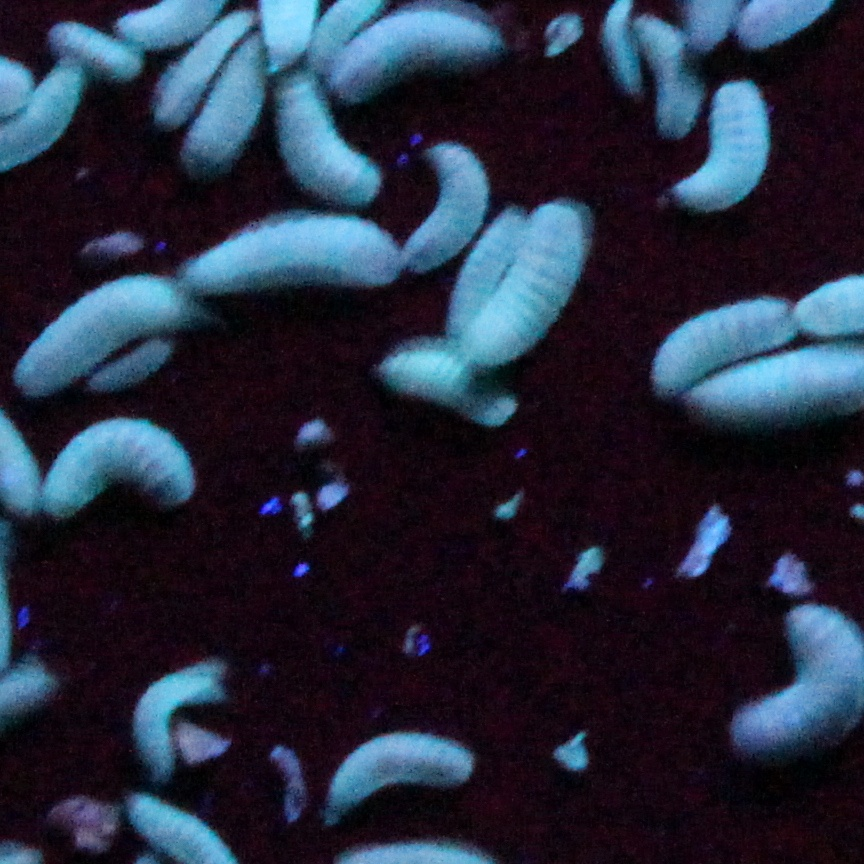larve: (182, 206, 411, 291), (736, 609, 864, 751), (19, 270, 176, 385), (476, 202, 589, 357), (269, 59, 372, 213), (44, 421, 190, 523), (321, 727, 473, 822), (648, 302, 801, 385), (671, 71, 763, 208), (155, 10, 254, 123), (325, 23, 482, 92), (396, 334, 510, 425), (453, 200, 520, 341), (199, 33, 262, 182), (416, 135, 481, 272), (141, 650, 211, 771), (639, 12, 705, 138), (48, 15, 141, 85)
